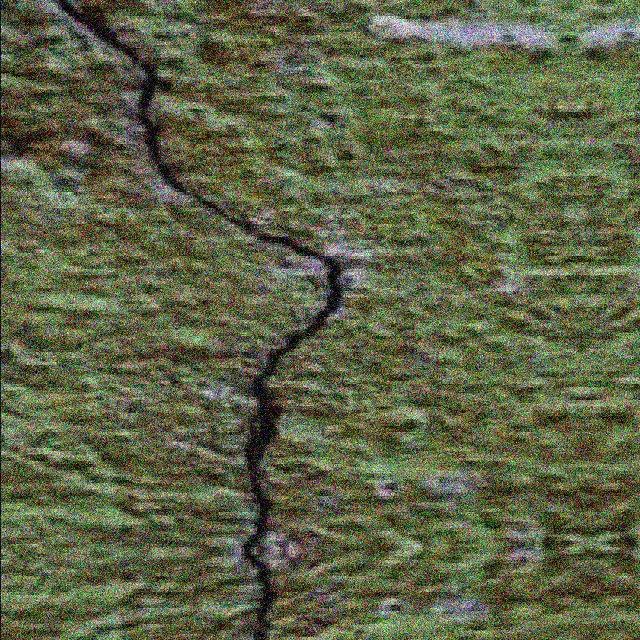SurfaceCrack: (54, 0, 376, 640)
